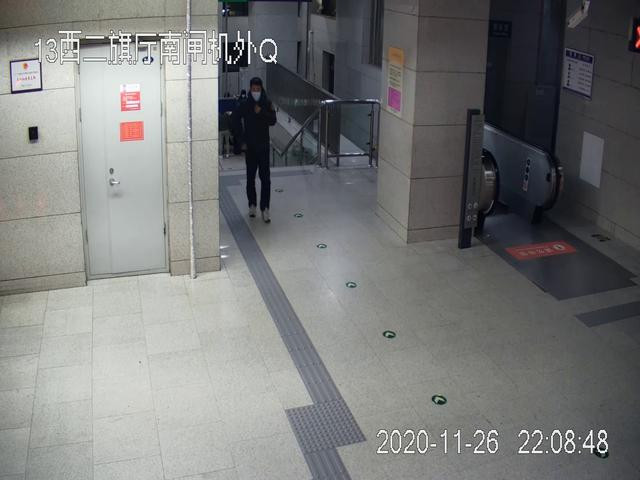person: (242, 77, 278, 223)
